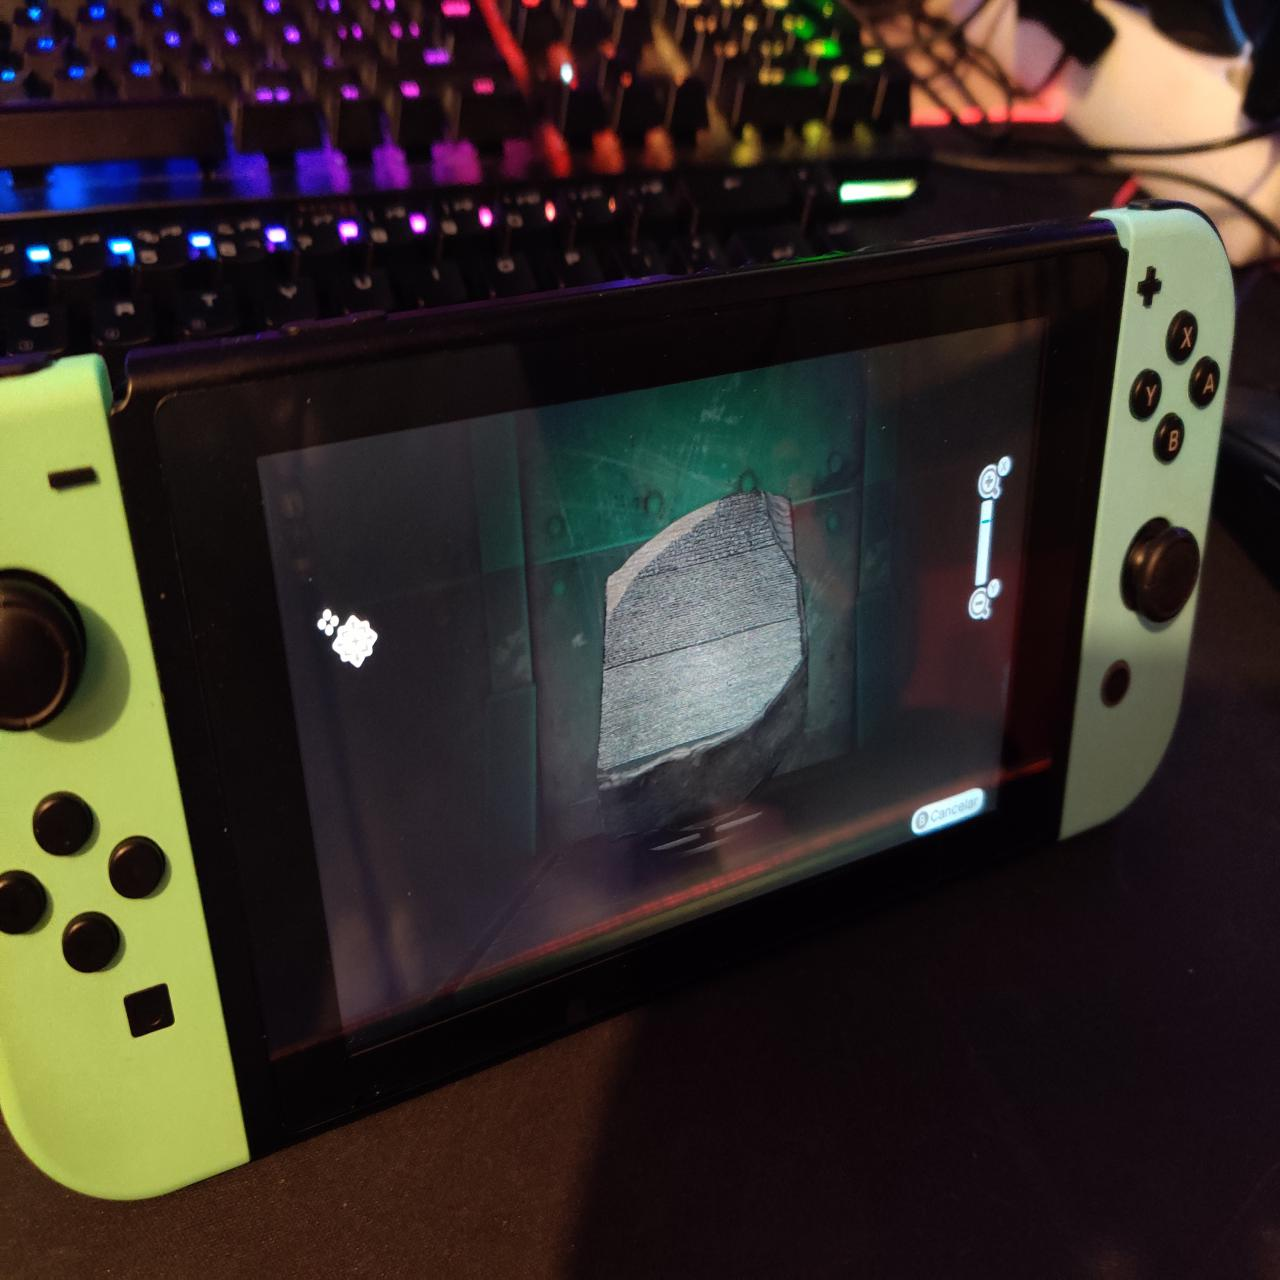RosettaStone: (593, 486, 813, 847)
